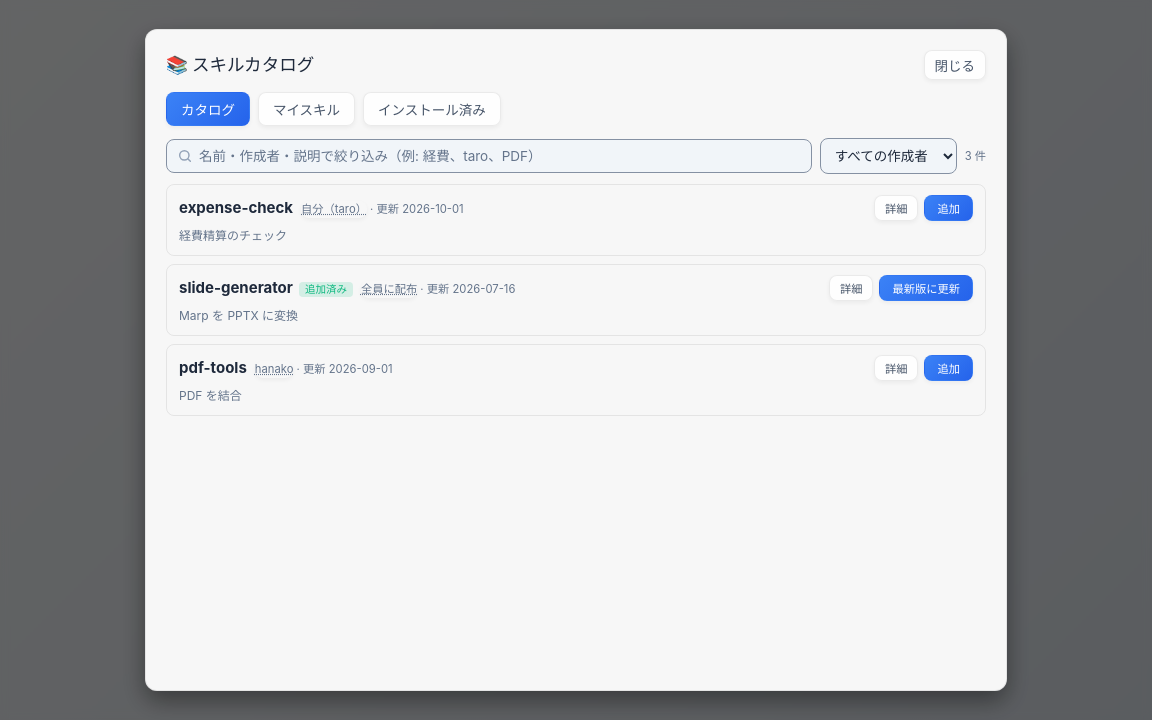
tabs: マイスキル = yours only, インストール済み = added + built-in › マイスキル: only skills-personal/, with its toolbar
Expected: the text "expense-check" is shown, [179, 198, 293, 217]
What coordinates should you click on to do the following:
click the button "マイスキル"
I would click on:
 (307, 109)
Its box is [258, 92, 355, 126].
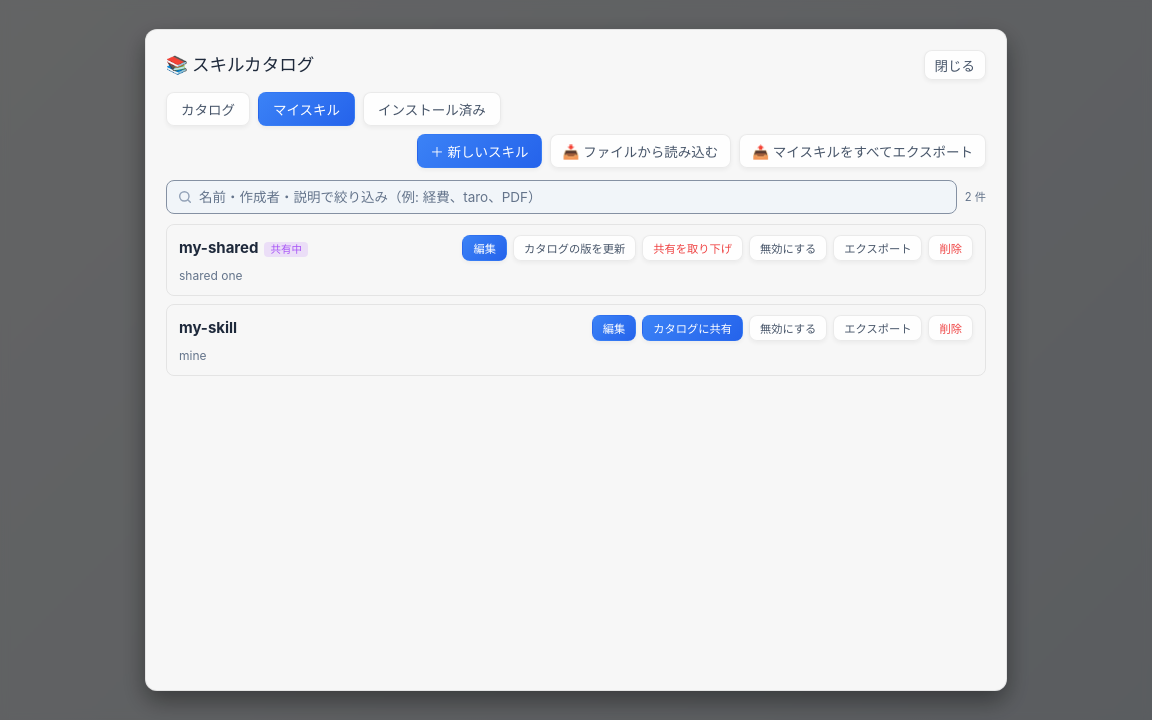
Now the text "my-skill" is shown, box [179, 318, 237, 337]
Now the text "expense-check" is gone
Now the text "slide-generator" is gone
